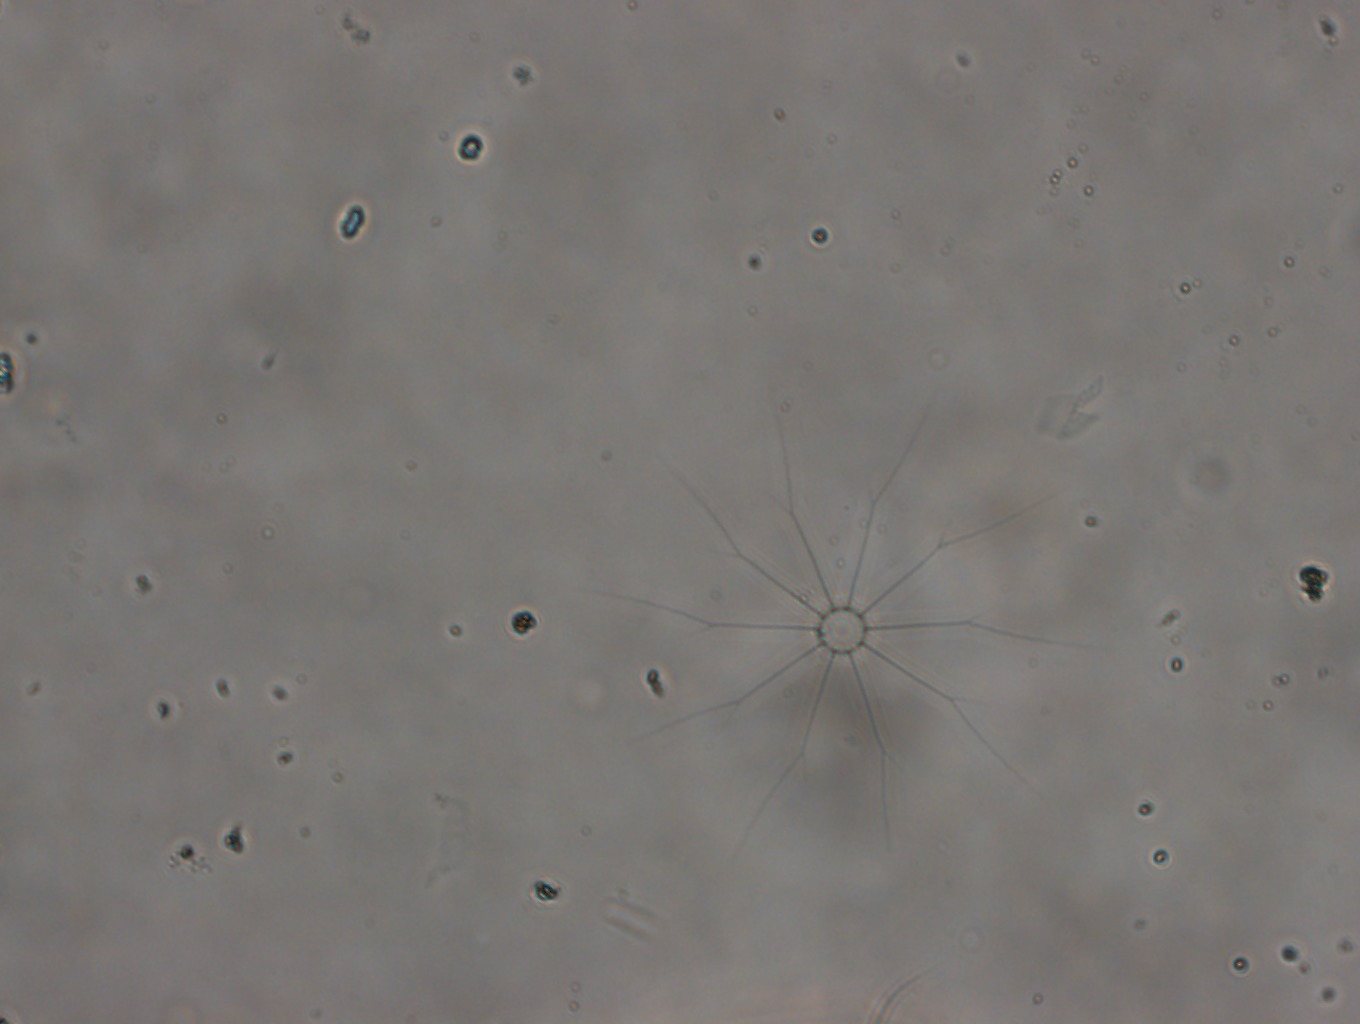bacteriastrum: (604, 382, 1080, 863)
